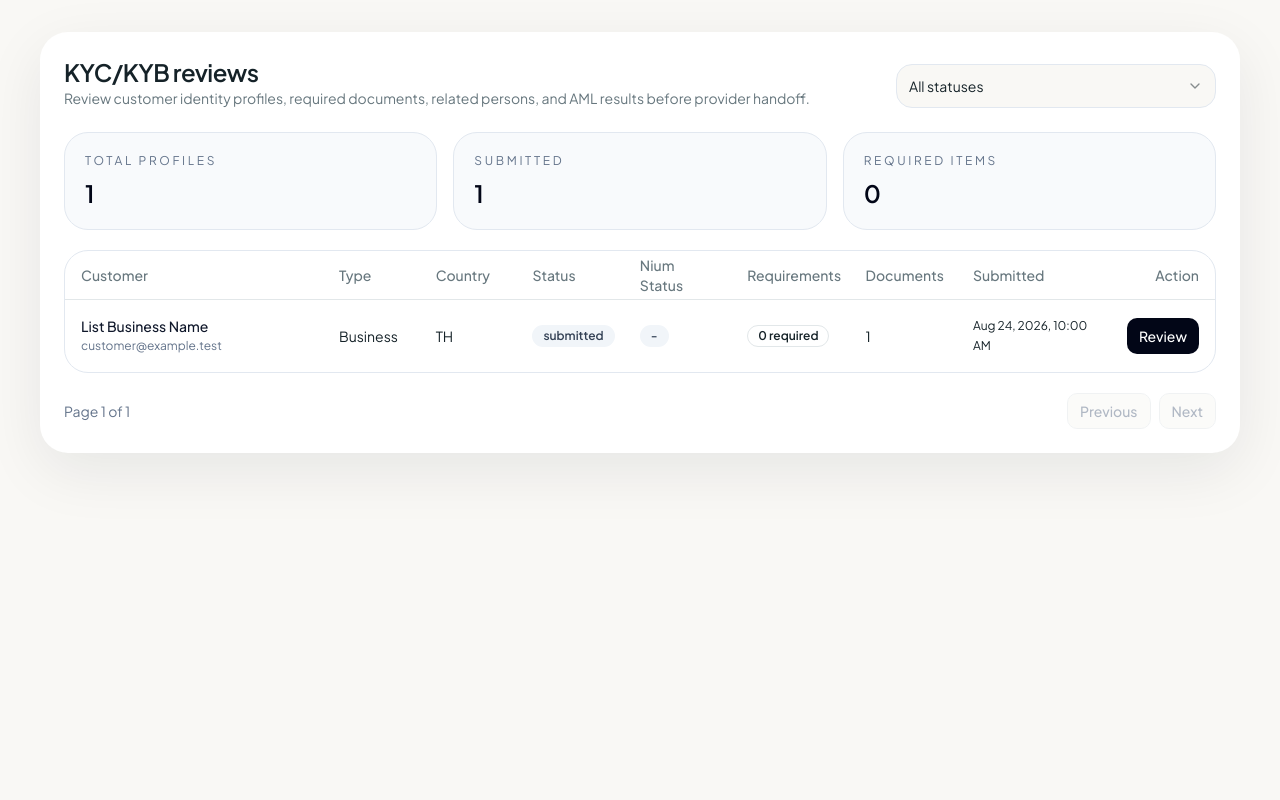
shows approved Manual KYC evidence as ready to submit, not waiting for Nium
The image size is (1280, 800).
Click the button "Review".
click(1163, 336)  # box x1=1127 y1=318 x2=1199 y2=354
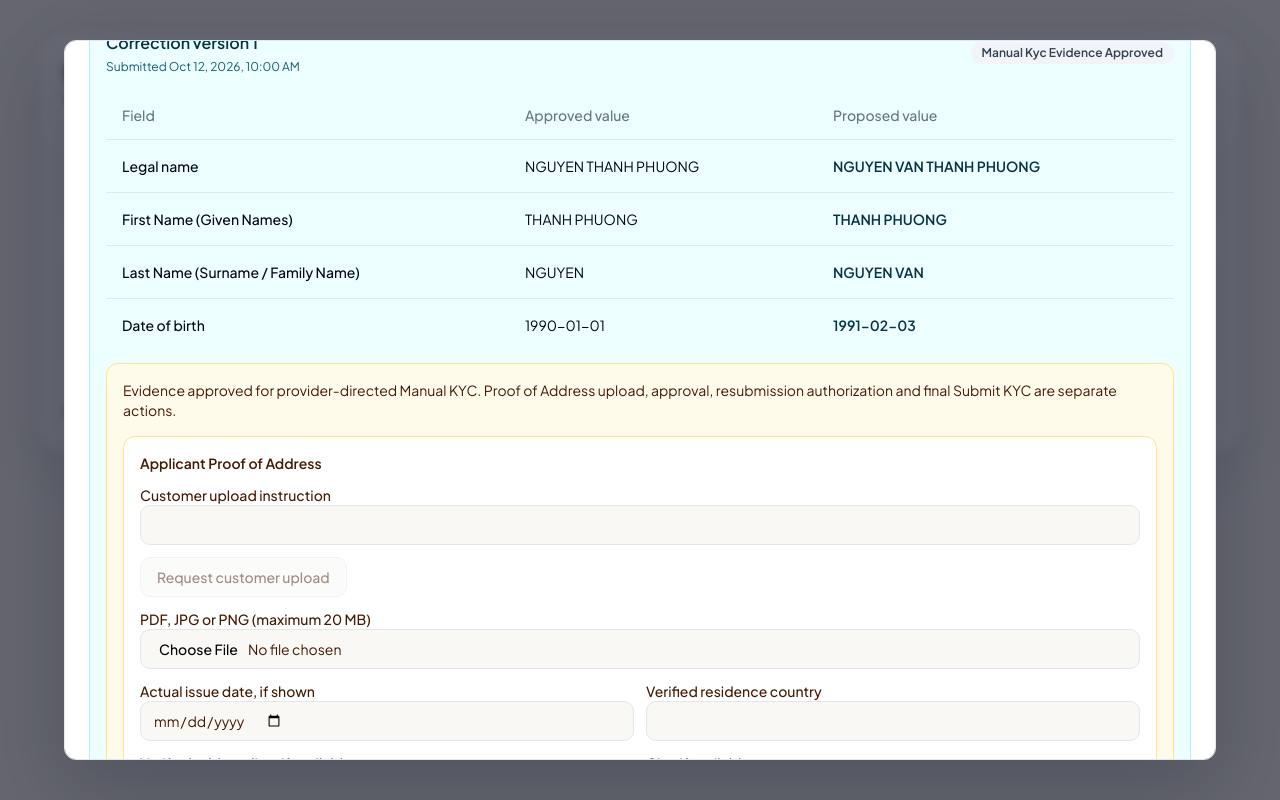
Check: the text "Evidence approved for provider-directed Manual KYC" is shown, box x1=123 y1=380 x2=1117 y2=418
